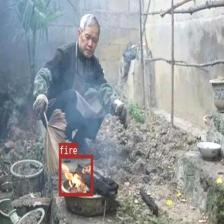fire: (58, 154, 93, 196)
